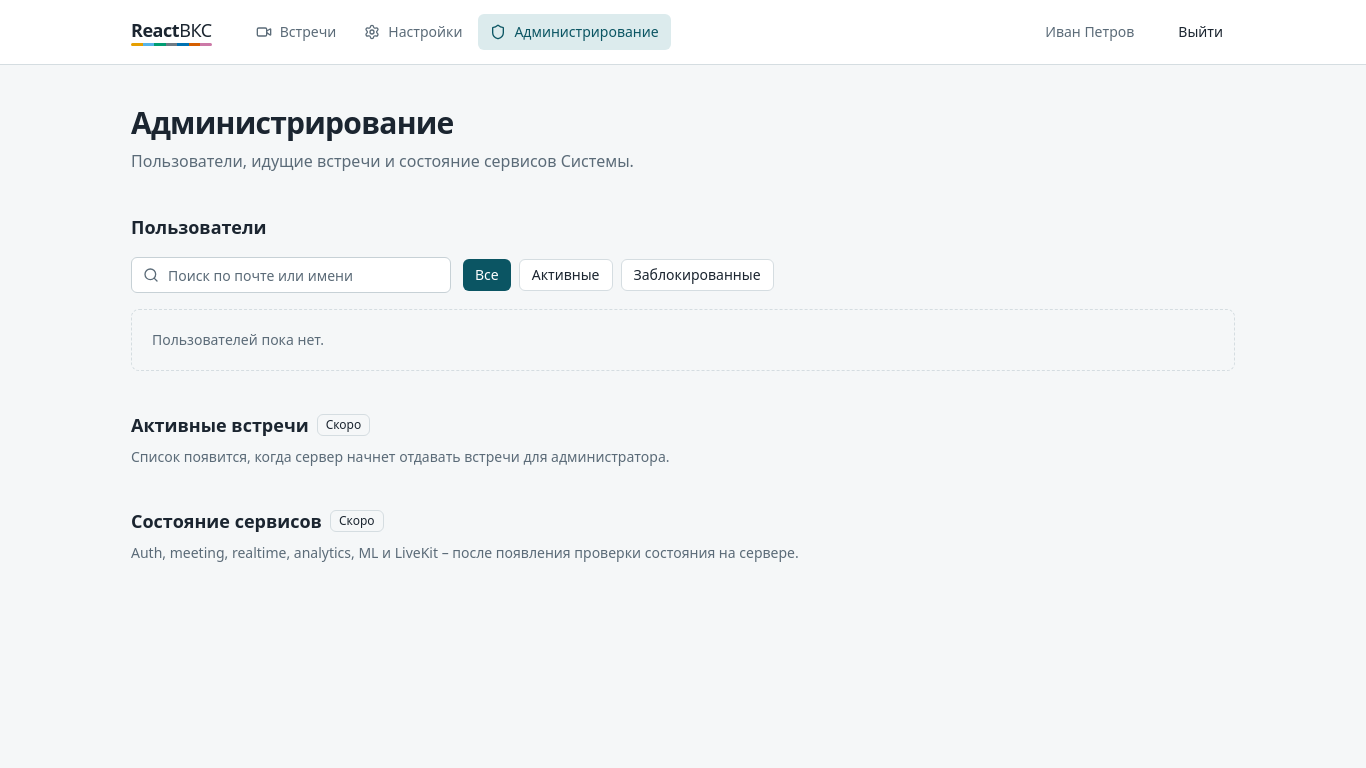
Test case: админка: пользователи (режим http) › пустой результат поиска
Type "zzz" into the search field labelled "Поиск по почте или имени".
click(291, 275); type("zzz")  # box [131,257,451,293]
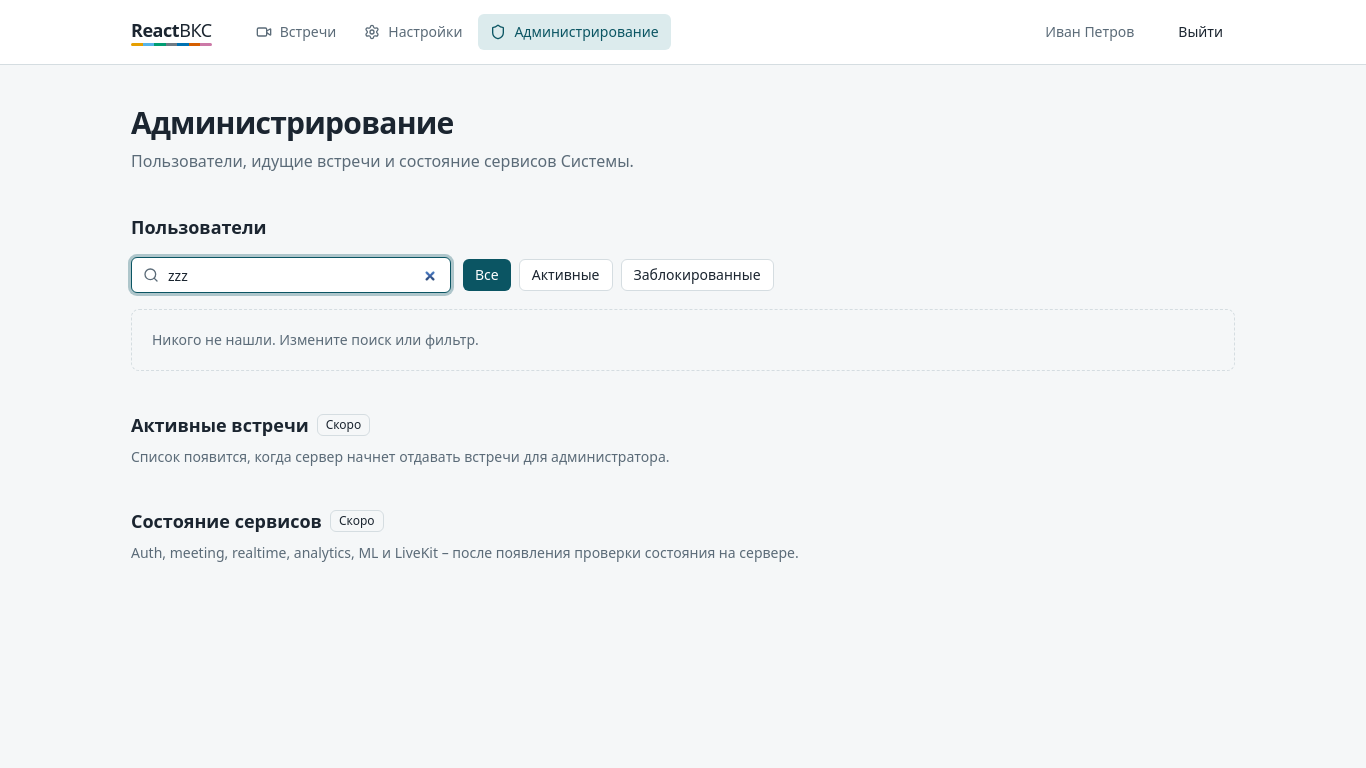
Now the text "Никого не нашли. Измените поиск или фильтр." is shown, box [131,309,1235,371]
